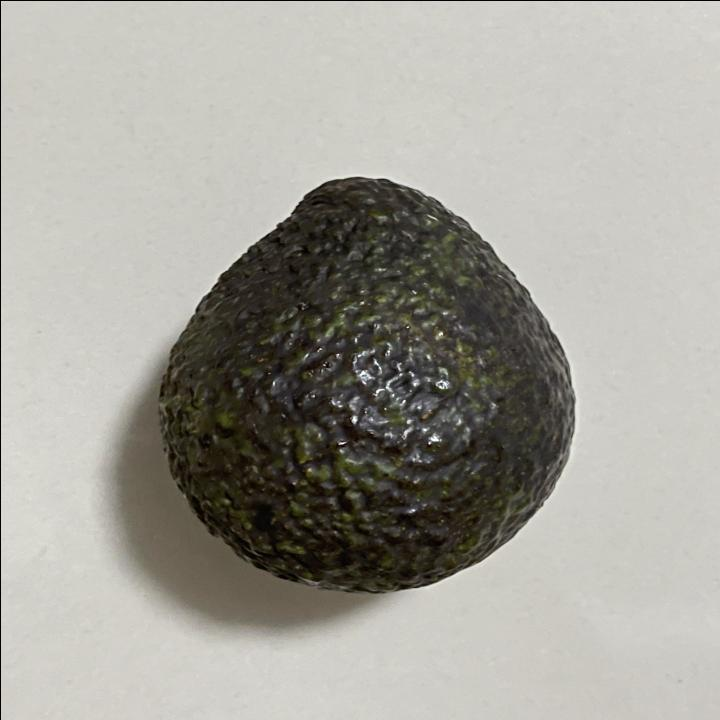Level1: (143, 162, 597, 602)
